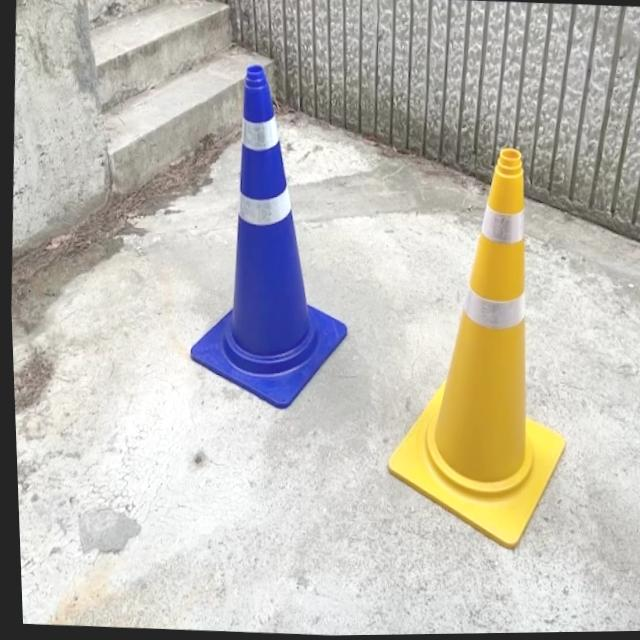b_rub: (188, 64, 345, 408)
y_rub: (386, 149, 564, 550)
